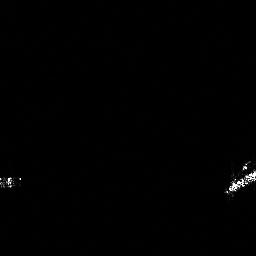ship: (220, 159, 256, 200)
